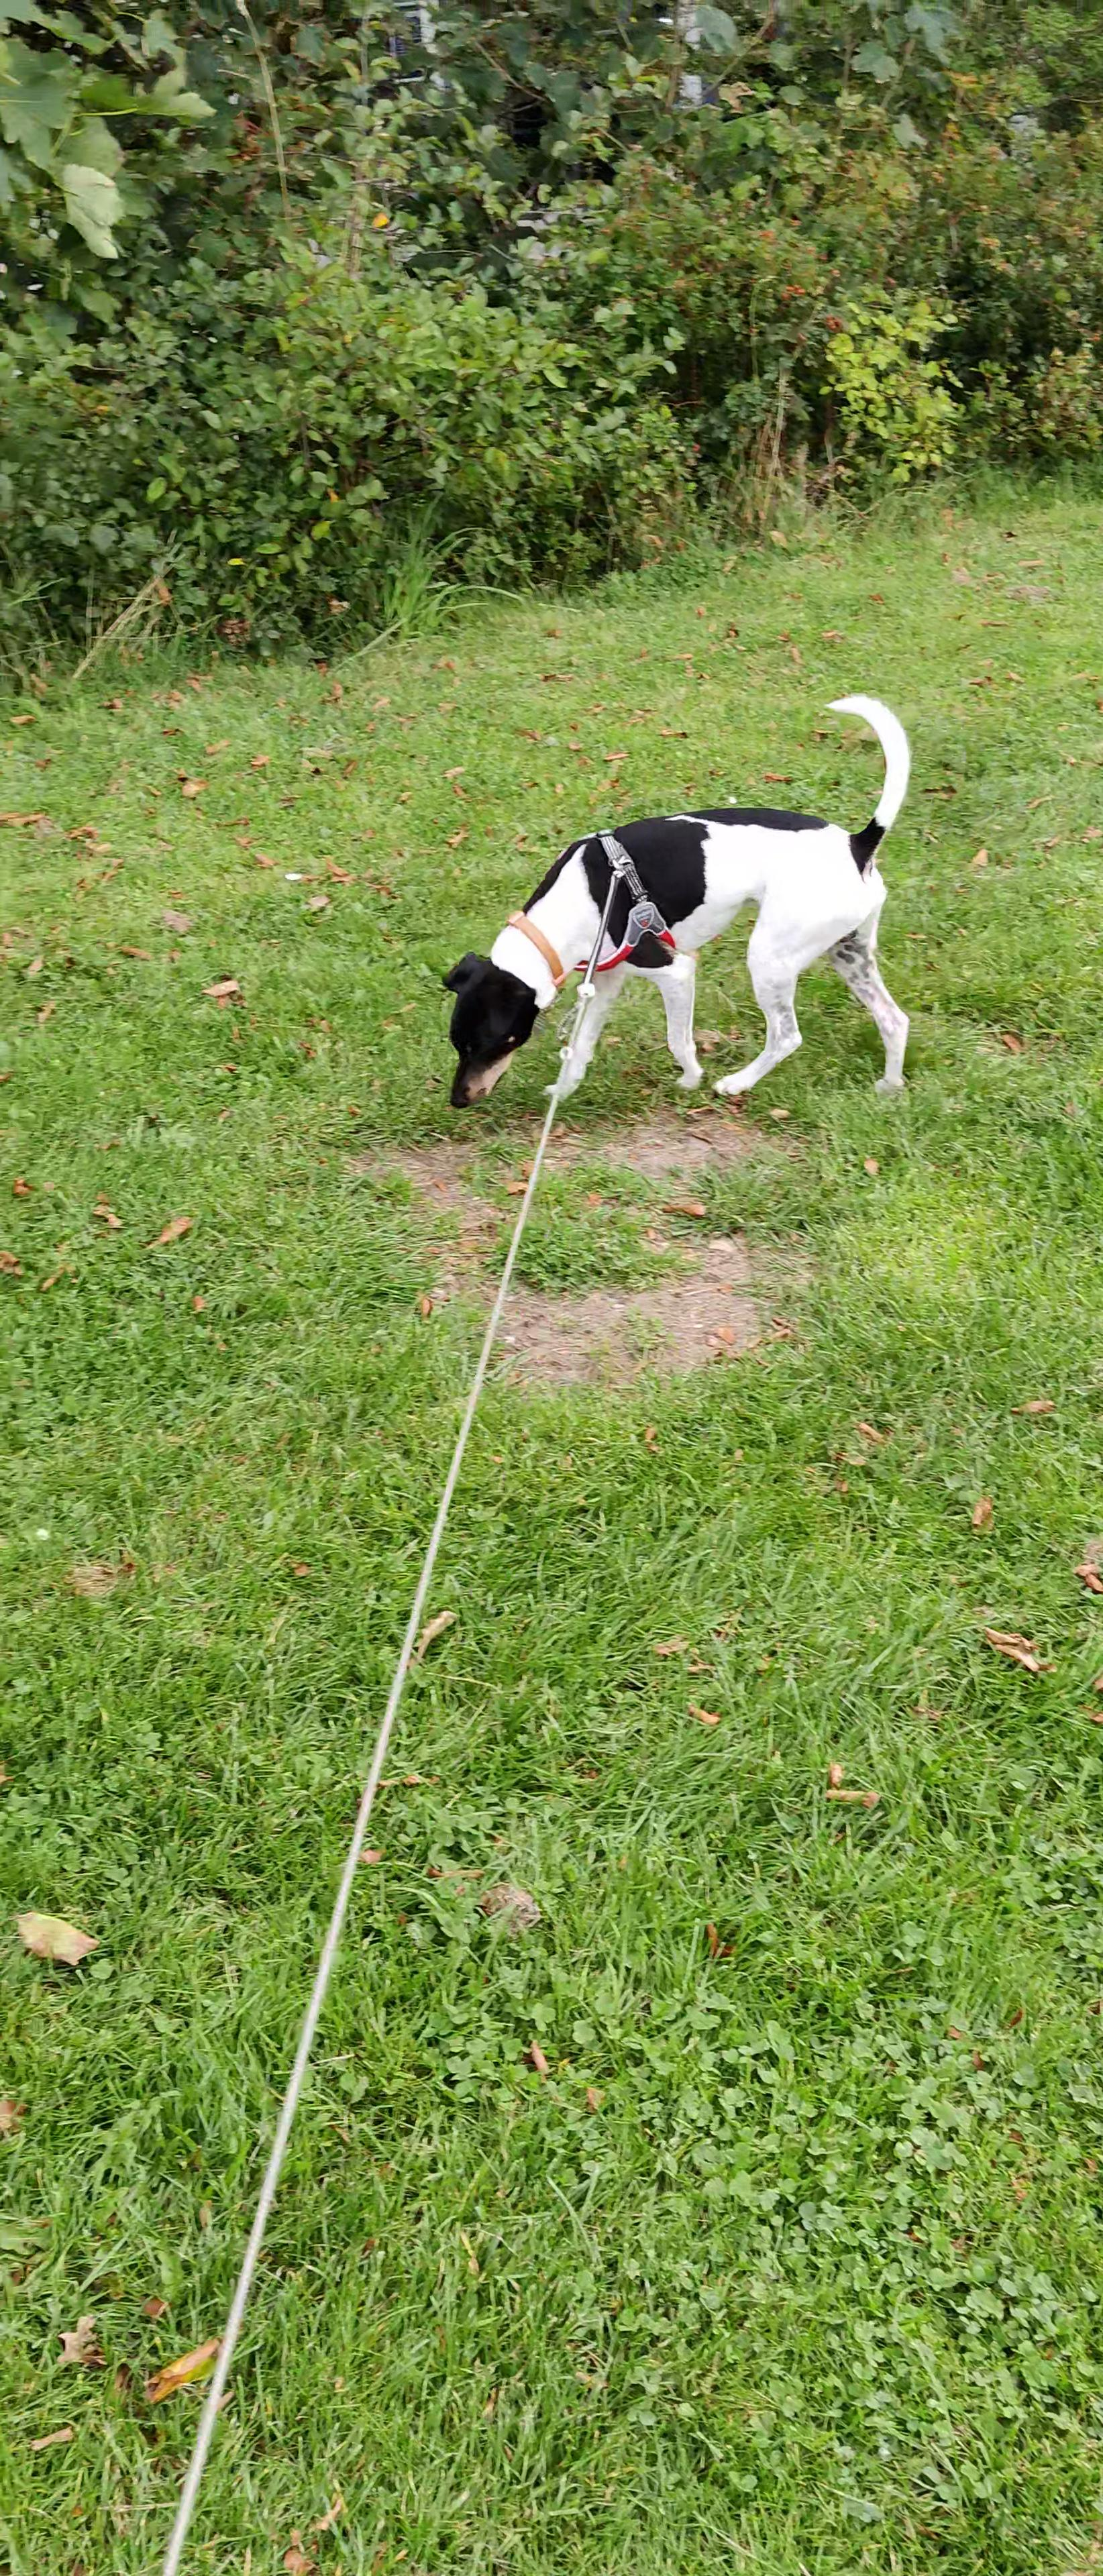Dog: (432, 692, 929, 1112)
